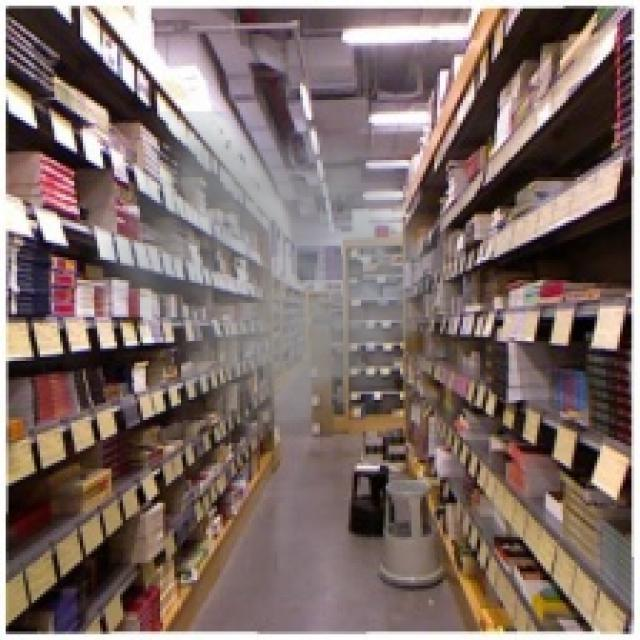Smoke: (71, 111, 483, 472)
